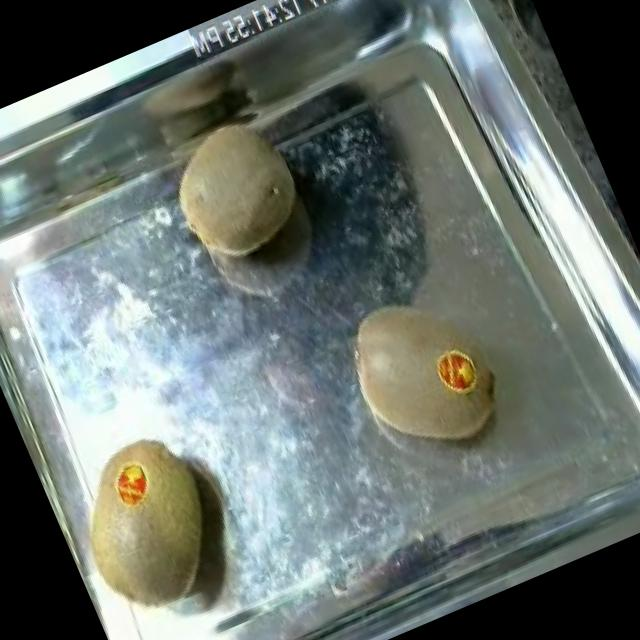Fruit: (36, 411, 249, 640), (321, 268, 517, 480), (146, 96, 328, 284)
